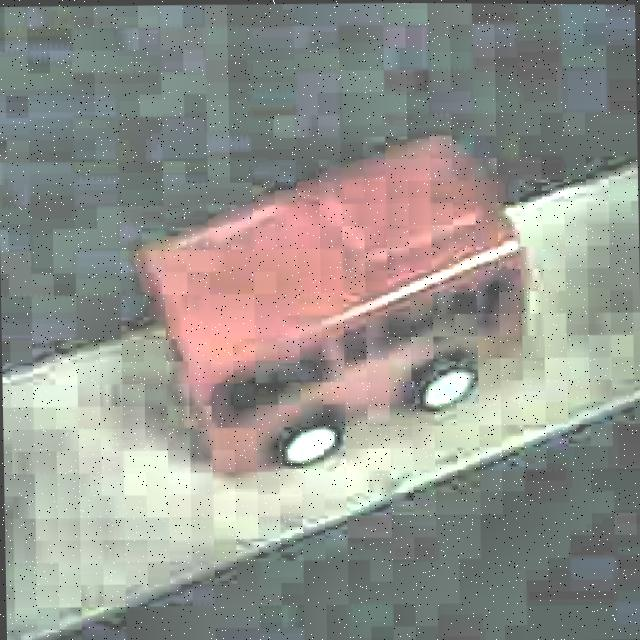bus: (140, 129, 526, 482)
